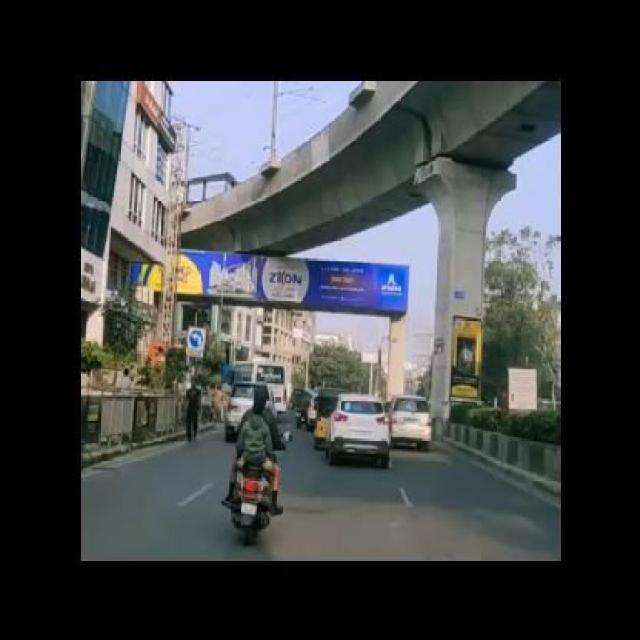car: (326, 395, 394, 468), (388, 395, 435, 451)
motorbike: (223, 385, 286, 546)
